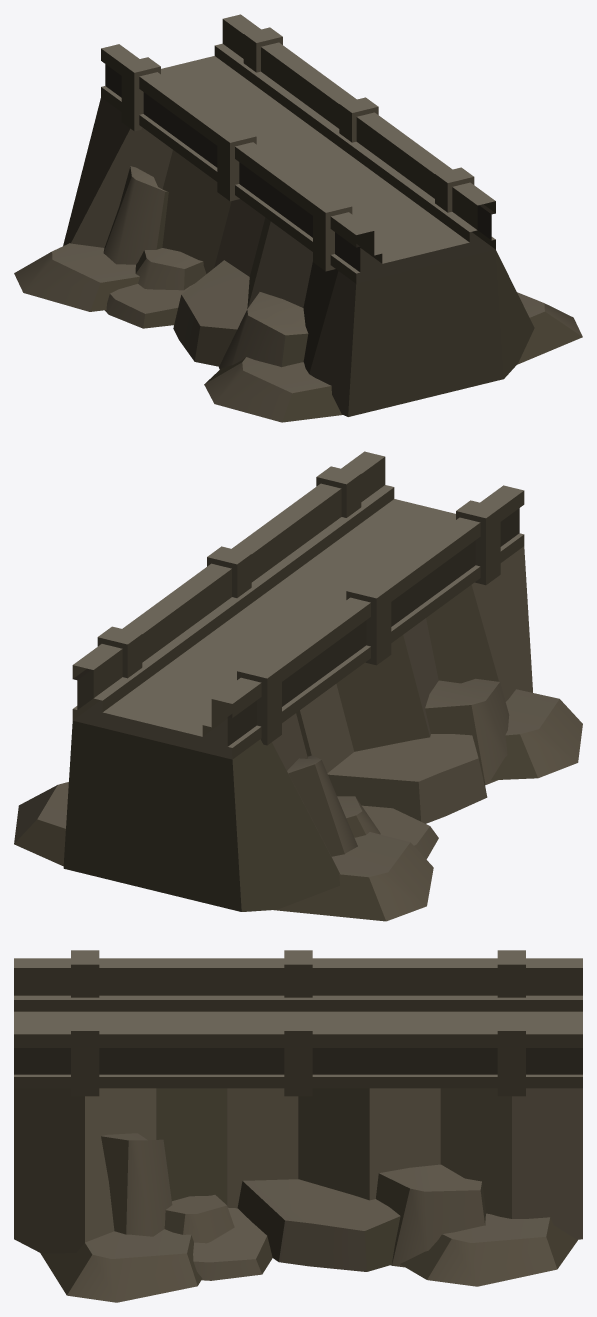
The model's file is SF_Bld_Undead_Castle_Bridge_01.fbx.
3 views of the same model, one above another, from view 1: azimuth 30°, elevation 25°; view 2: azimuth 150°, elevation 25°; view 3: azimuth 270°, elevation 25° (orthographic). The views are drawn at different scales.
Visible parts, largest first — view 1: SF_Bld_Undead_Castle_Bridge_01; view 2: SF_Bld_Undead_Castle_Bridge_01; view 3: SF_Bld_Undead_Castle_Bridge_01.
Part boxes in pixels (x1,y1,x2,y2): SF_Bld_Undead_Castle_Bridge_01: [14, 14, 582, 422]; SF_Bld_Undead_Castle_Bridge_01: [14, 451, 582, 921]; SF_Bld_Undead_Castle_Bridge_01: [14, 950, 582, 1302].
Size of the model in its own units: 17.54 by 8.1 by 20.
